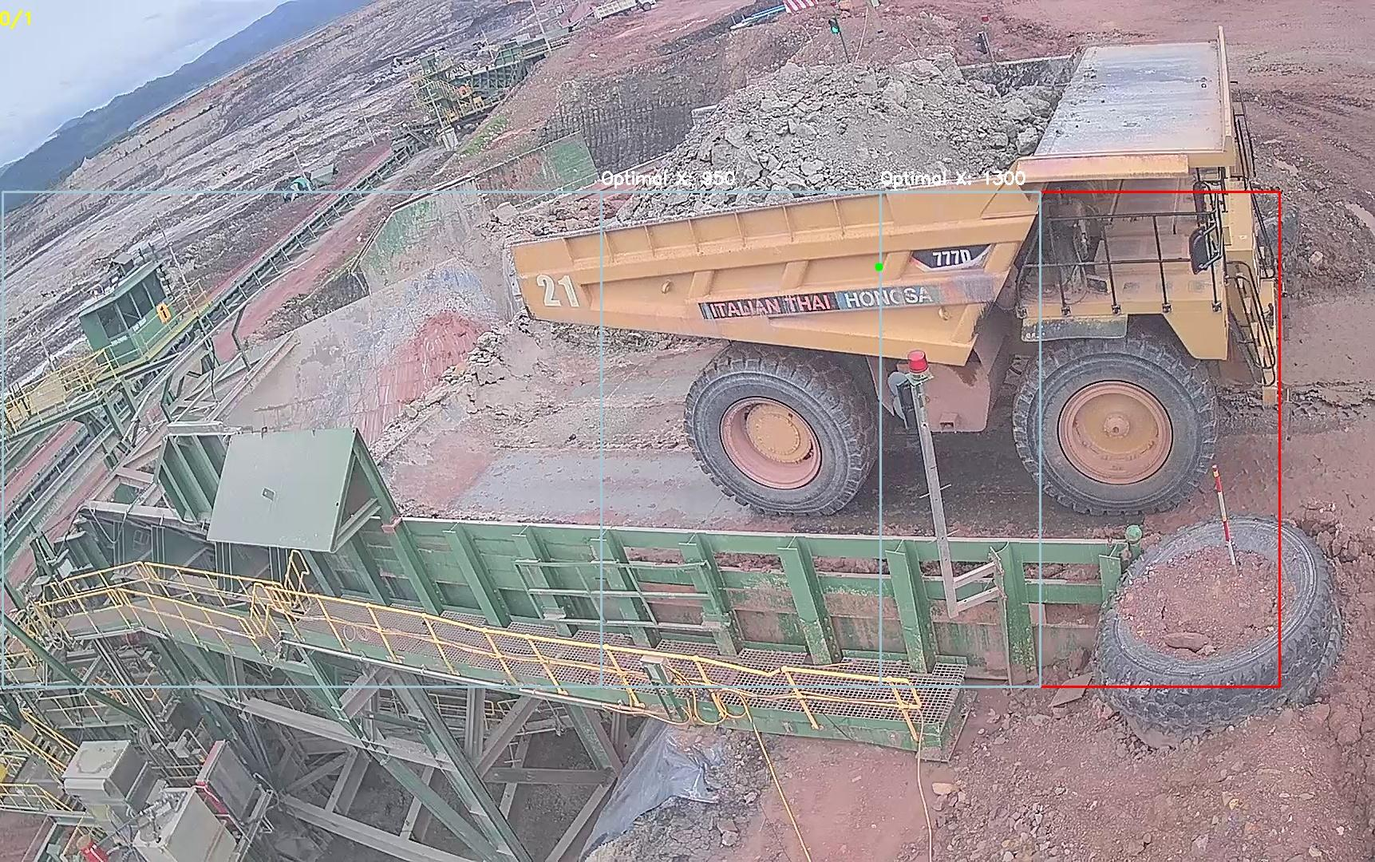company: (692, 275, 952, 327)
full_load: (687, 48, 1036, 206)
mining_truck: (500, 32, 1293, 528)
tail_number: (529, 267, 587, 317)
truck_size: (909, 239, 993, 271)
